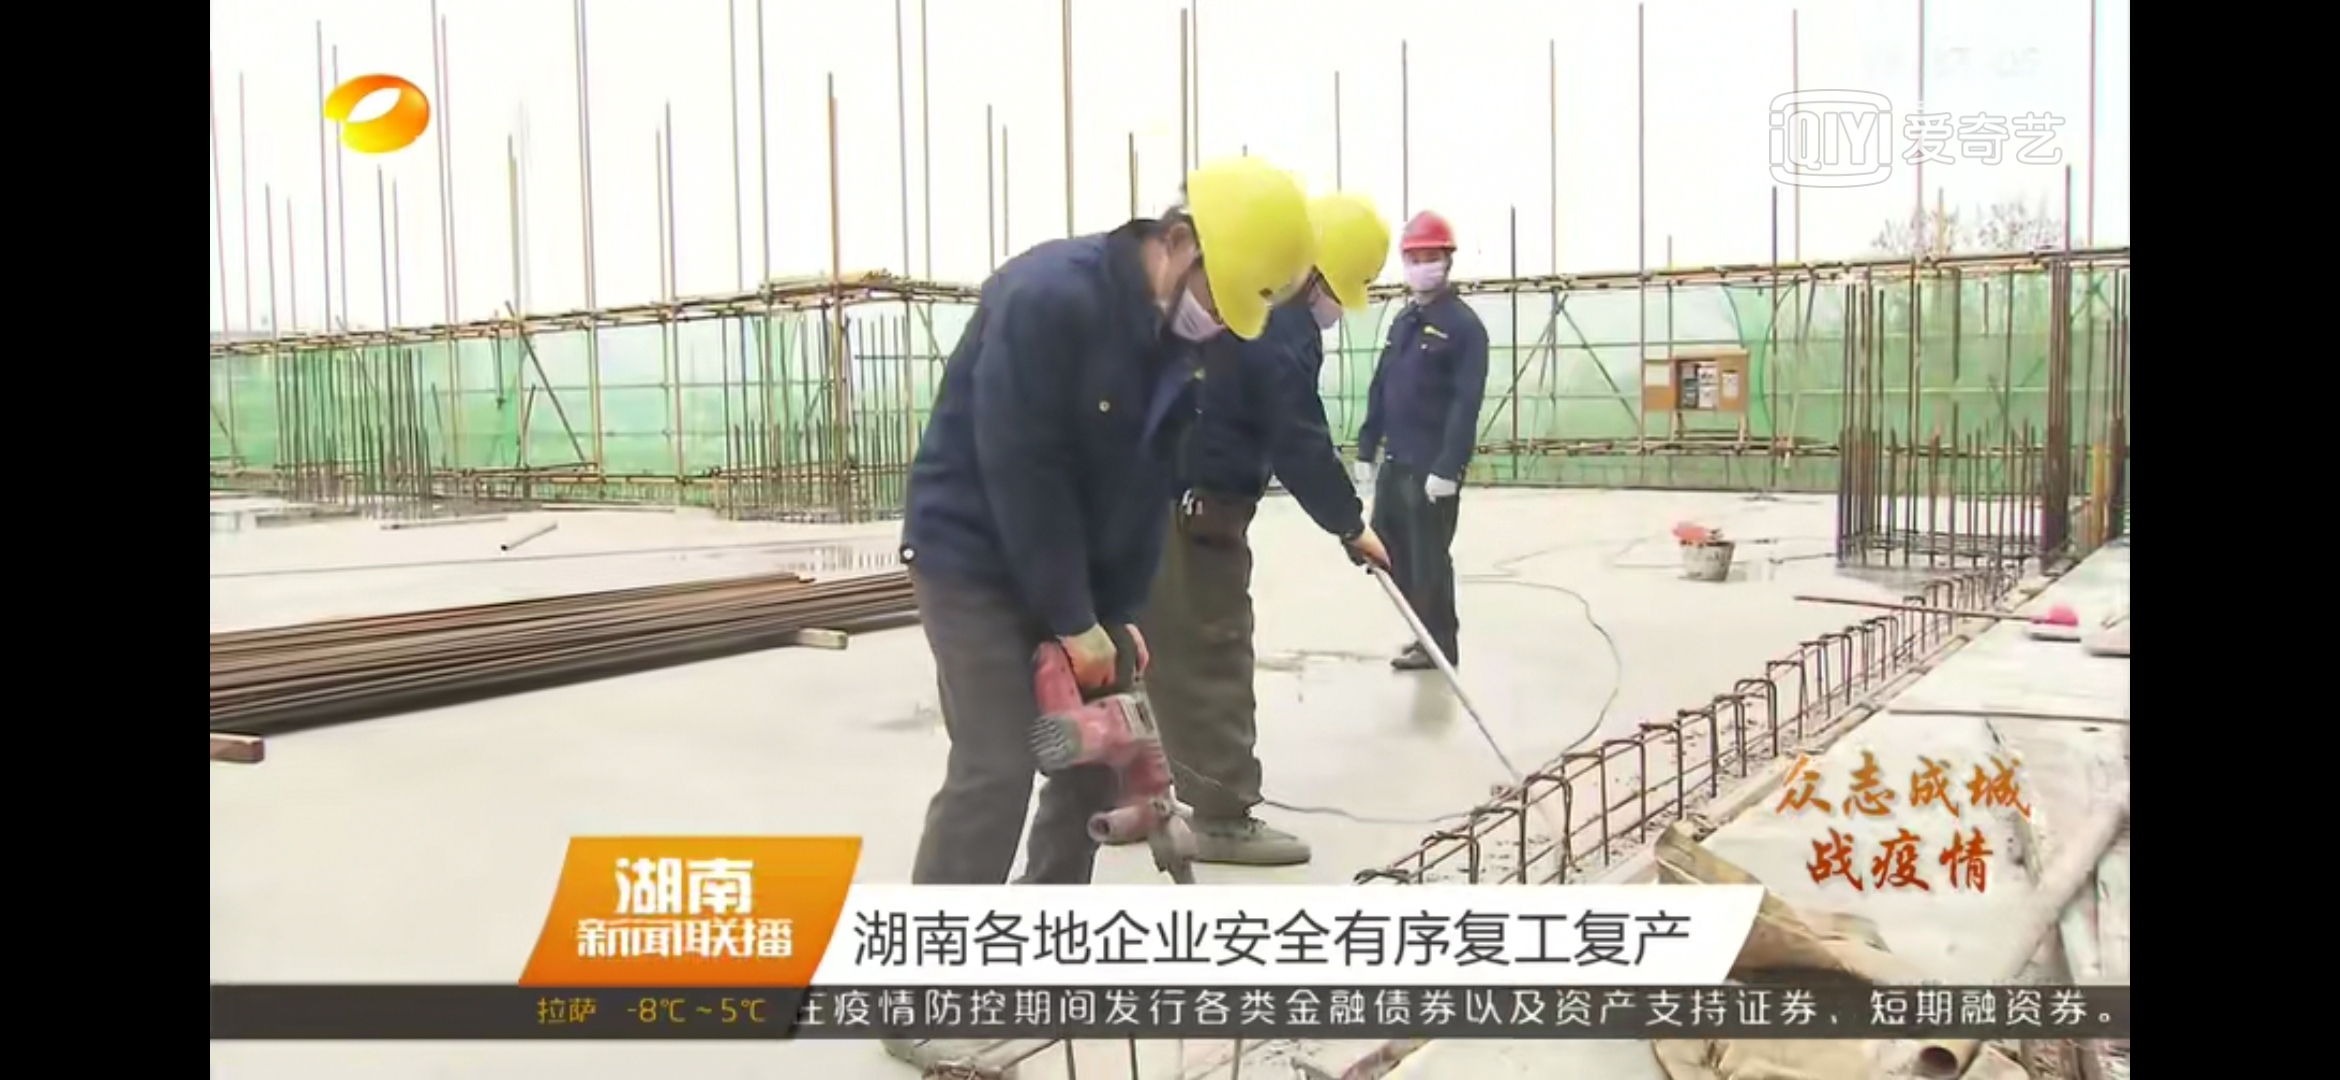correctlyWear: (1149, 218, 1249, 340), (1394, 233, 1460, 297), (1310, 251, 1352, 346)
